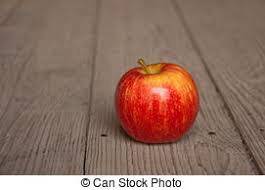apple: (114, 67, 199, 145)
